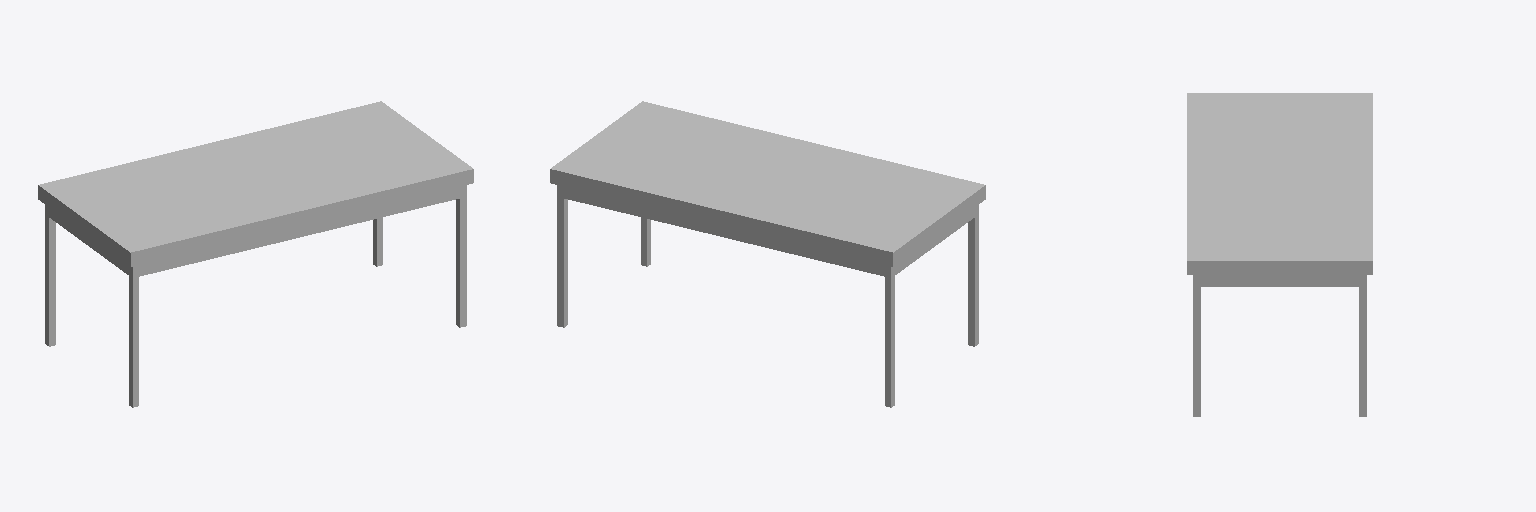
Rendered from table.obj.
3 views of the same model, side by side, from view 1: azimuth 30°, elevation 25°; view 2: azimuth 150°, elevation 25°; view 3: azimuth 270°, elevation 25° (orthographic).
Visible parts, largest first — view 1: top, rectangle, Foot_1, Foot_4, Foot_2; view 2: top, rectangle, Foot_3, Foot_2, Foot_4; view 3: top, rectangle, Foot_1, Foot_3.
Boxes of the visible parts, x1,y1,x2,y2 form: top: [38, 101, 473, 266]; rectangle: [45, 186, 466, 277]; Foot_1: [456, 185, 466, 327]; Foot_4: [45, 205, 55, 346]; Foot_2: [129, 266, 138, 407]; top: [550, 101, 985, 266]; rectangle: [557, 186, 978, 276]; Foot_3: [557, 185, 567, 327]; Foot_2: [968, 206, 978, 346]; Foot_4: [885, 265, 894, 407]; top: [1187, 93, 1372, 274]; rectangle: [1193, 275, 1366, 286]; Foot_1: [1193, 275, 1200, 416]; Foot_3: [1359, 277, 1366, 416].
Bounding box in the file's own units: 1.5 × 0.66 × 0.7.